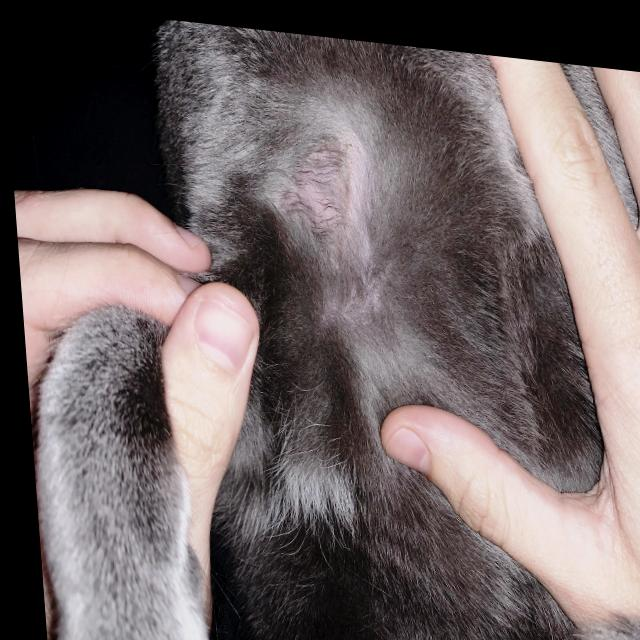hairloss: (275, 98, 378, 272)
